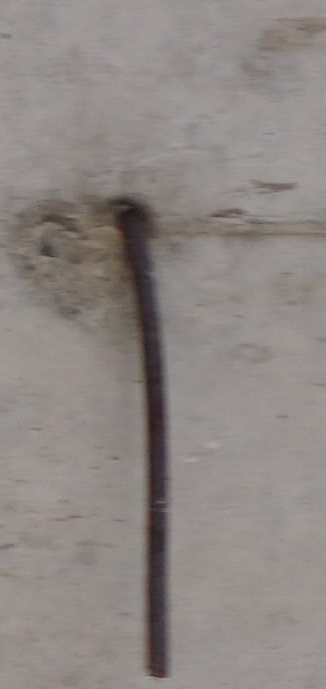Exposed reinforcement: (118, 213, 173, 680)
Spalling: (7, 193, 109, 338)
